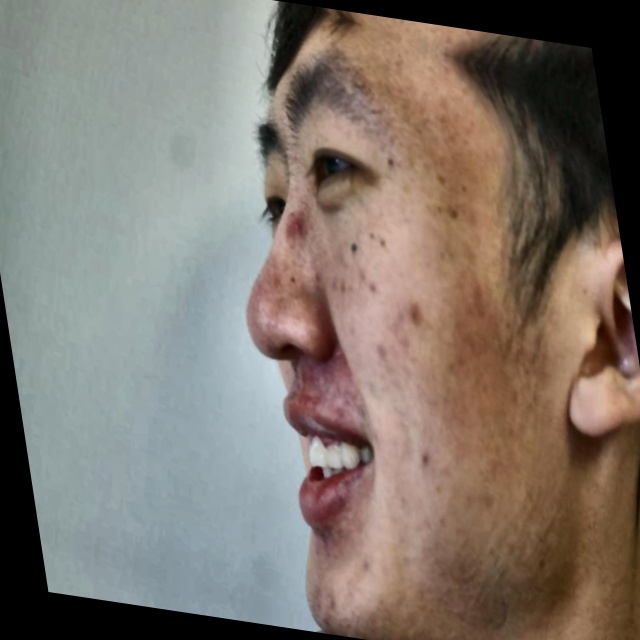comedone: (399, 290, 433, 342), (283, 204, 316, 248)
